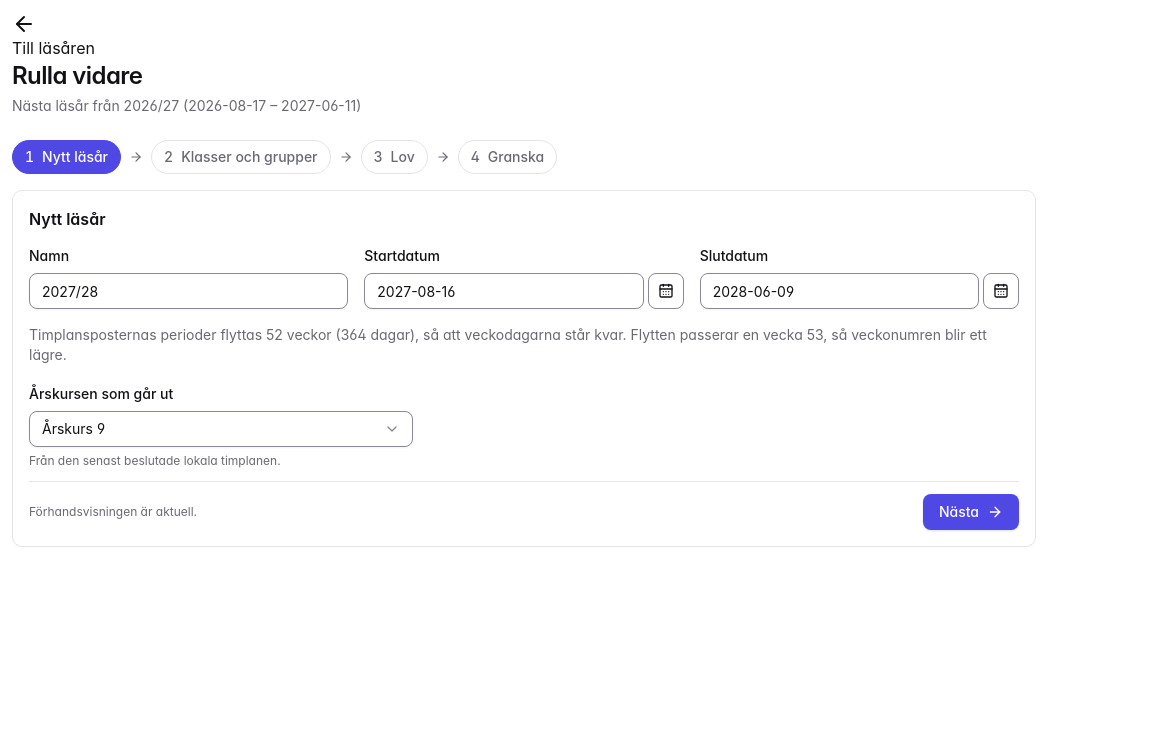
RolloverWizard › shows in the review which timplan each grade will follow and why, and marks a carried draft
Click the button "4 Granska": (508, 157) [458,140,557,174]
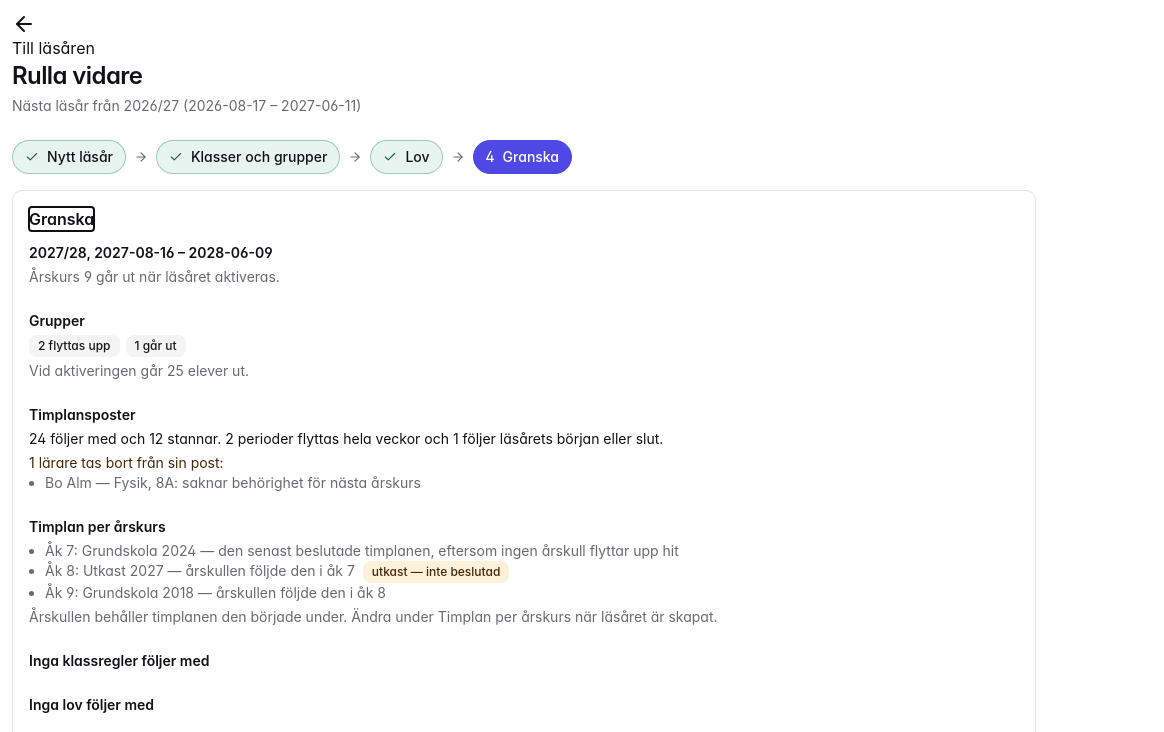
Check: the list items read "Åk 7: Grundskola 2024 — den senast beslutade timplanen, eftersom ingen årskull flyttar upp hit", "Åk 8: Utkast 2027 — årskullen följde den i åk 7utkast — inte beslutad", "Åk 9: Grundskola 2018 — årskullen följde den i åk 8", in this order, box [45,542,679,559]; [45,561,509,583]; [45,584,386,601]
